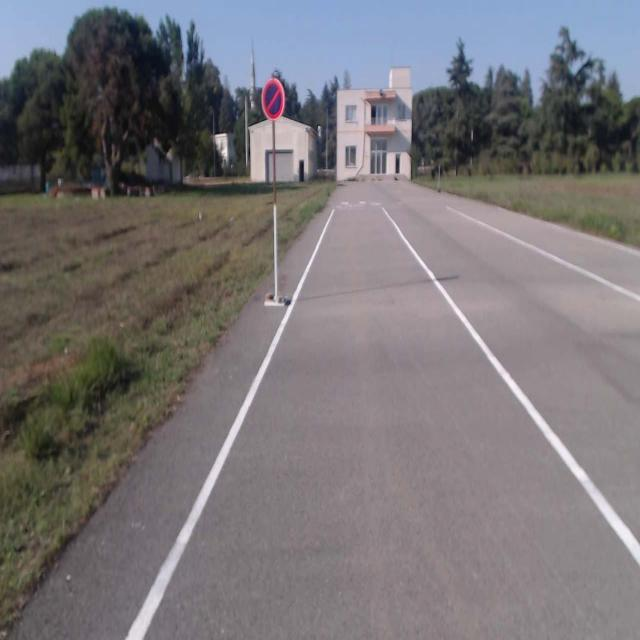parkyasak: (263, 81, 283, 117)
